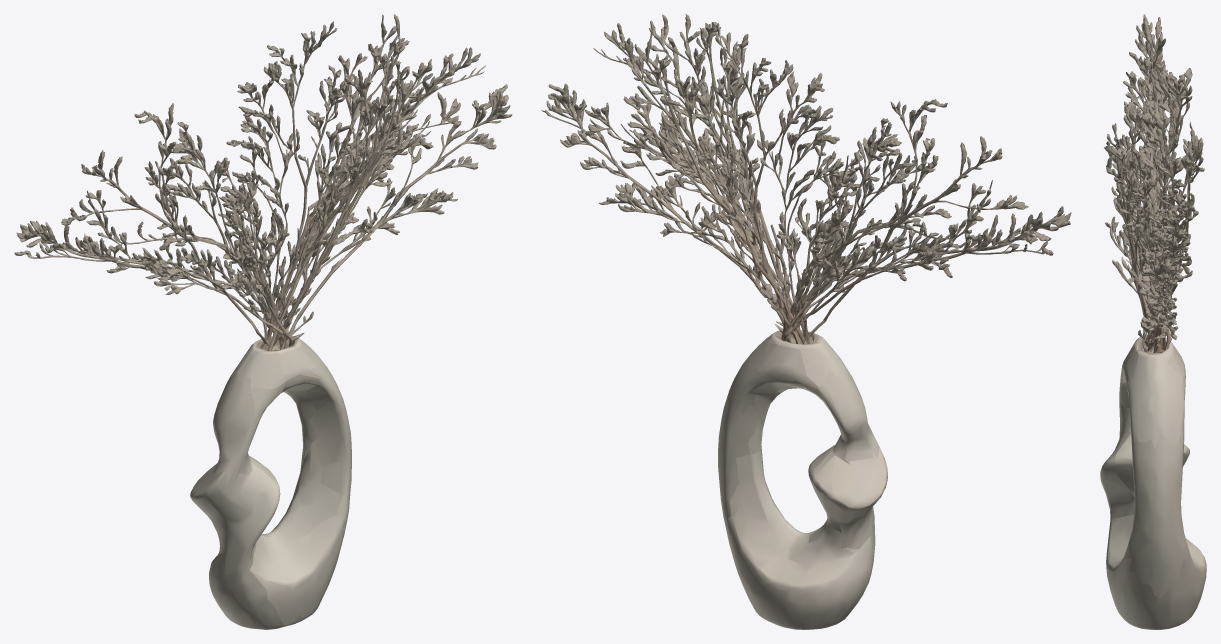
The model's file is Meshy_AI_Whispering_Branches_0909115501_texture.glb.
3 renders of one model, left to right at view 1: azimuth 30°, elevation 25°; view 2: azimuth 150°, elevation 25°; view 3: azimuth 270°, elevation 25°, orthographic.
Size of the model in its own units: 1.77 by 1.9 by 0.3225.
1 material, 1 textured.
